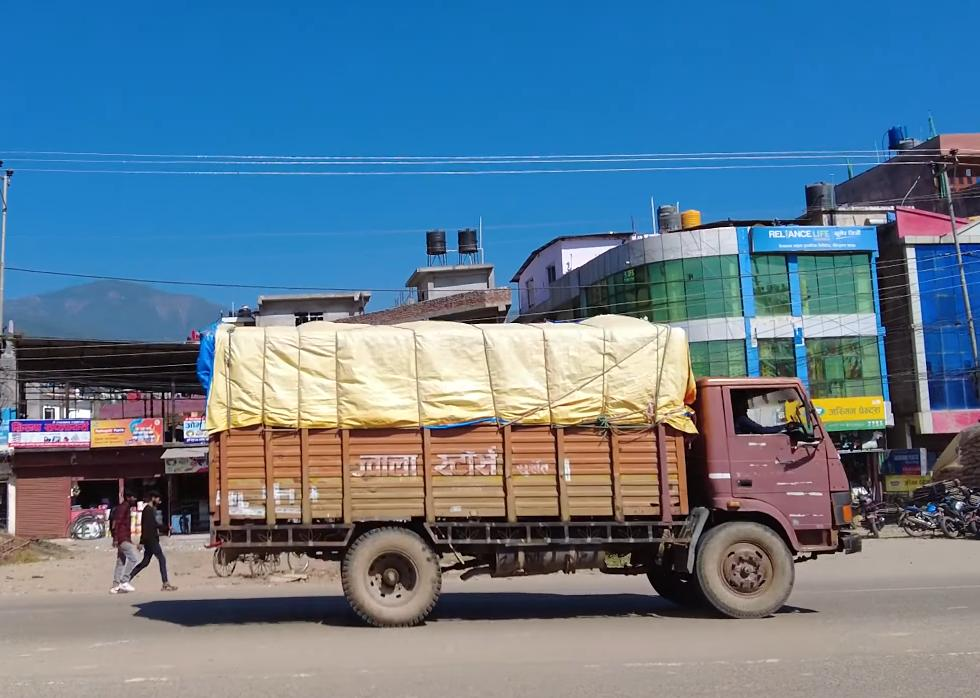truck: (200, 312, 862, 627)
